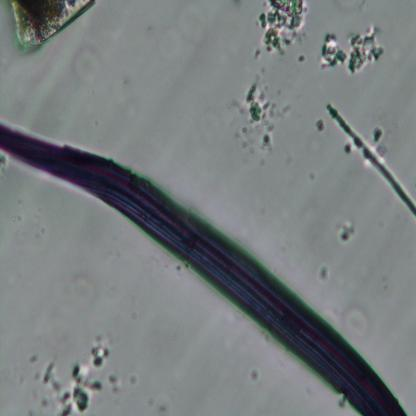Background material: (326, 102, 416, 216), (6, 1, 100, 53), (44, 342, 112, 413), (236, 83, 287, 149), (321, 26, 384, 74), (256, 1, 308, 50), (332, 218, 362, 253), (244, 365, 262, 388), (318, 262, 330, 283), (314, 117, 326, 135), (296, 53, 306, 65), (251, 50, 261, 61)
Microfibre: (0, 121, 408, 414)
